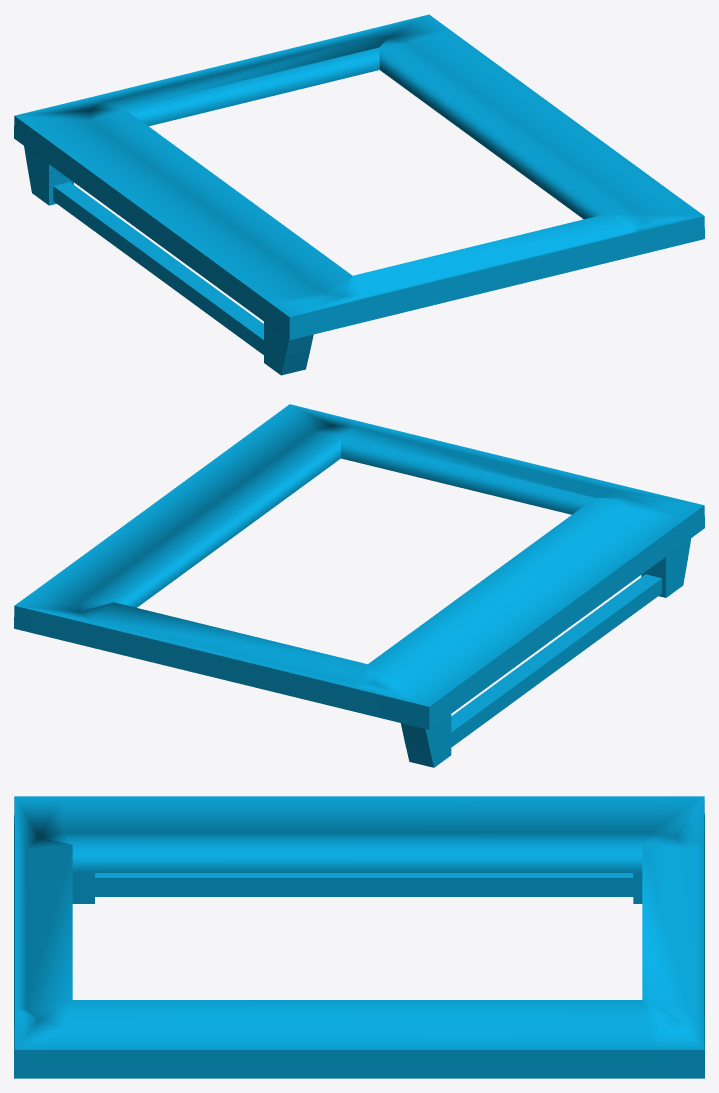
File: Gas_Stove_Door_Lod1.fbx
3 renders of one model, top to bottom at view 1: azimuth 30°, elevation 25°; view 2: azimuth 150°, elevation 25°; view 3: azimuth 270°, elevation 25°, orthographic. The views are drawn at different scales.
Visible parts, largest first — view 1: Gas_Stove_Door_Lod1; view 2: Gas_Stove_Door_Lod1; view 3: Gas_Stove_Door_Lod1.
Part boxes in pixels (box(x1,y1,x2,y2)): Gas_Stove_Door_Lod1: box(14, 14, 704, 375); Gas_Stove_Door_Lod1: box(14, 404, 704, 767); Gas_Stove_Door_Lod1: box(14, 796, 704, 1078).
Size of the model in its own units: 46.71 by 7.98 by 53.73.
